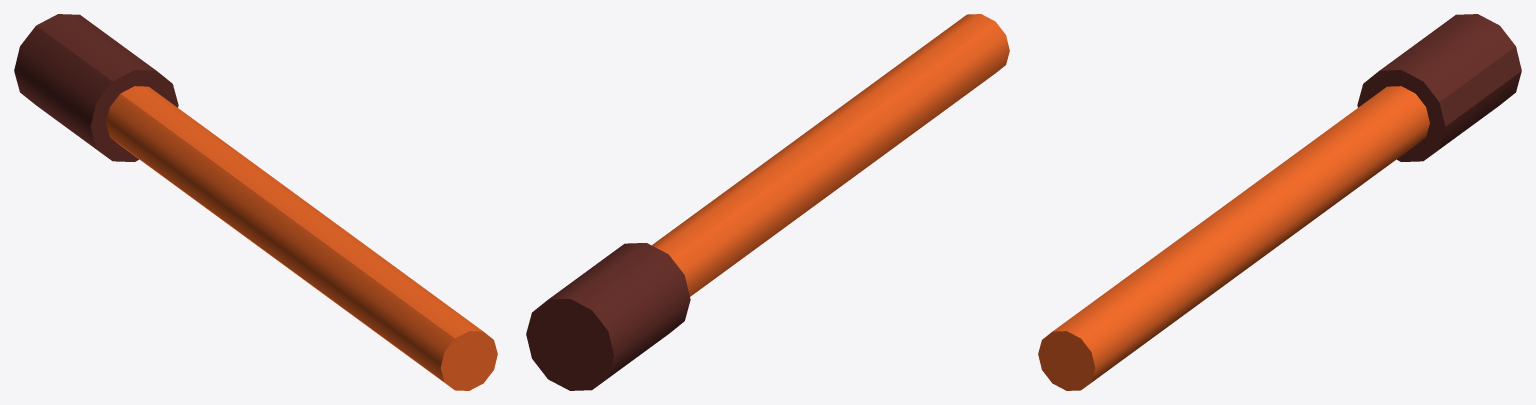
Rendered from Flare.fbx.
3 renders of one model, left to right at view 1: azimuth 30°, elevation 25°; view 2: azimuth 150°, elevation 25°; view 3: azimuth 330°, elevation 25°, orthographic.
Visible parts, largest first — view 1: Flare; view 2: Flare; view 3: Flare.
Boxes of the visible parts, <box> form: Flare: <box>14,14,497,390</box>; Flare: <box>526,14,1009,390</box>; Flare: <box>1038,14,1521,390</box>.
Size of the model in its own units: 7.44 by 7.44 by 60.12.
